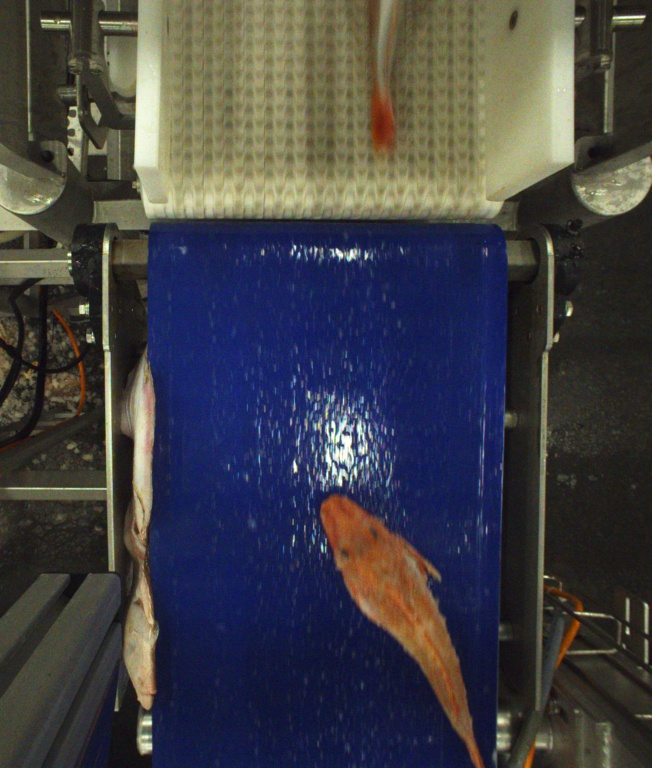GUU: (319, 493, 487, 768)
